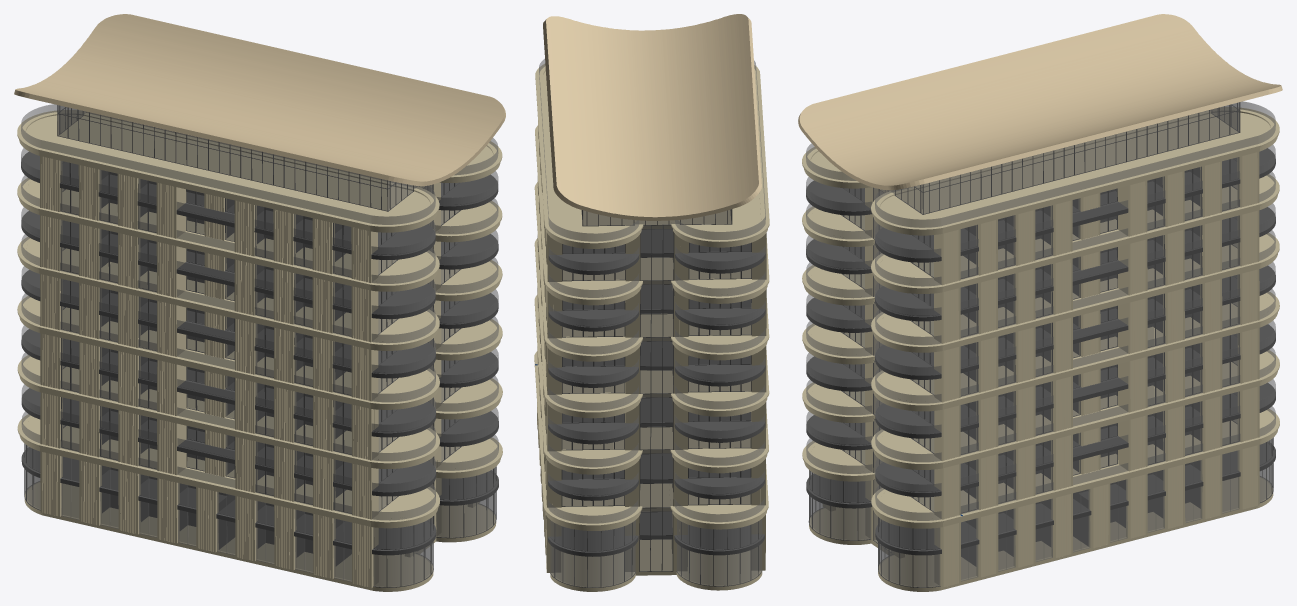
Rendered from Monaco_B1_Import3DFiles2.glb.
The picture shows the model from 3 angles, left to right: view 1: azimuth 30°, elevation 25°; view 2: azimuth 150°, elevation 25°; view 3: azimuth 270°, elevation 25°; orthographic projection. The views are drawn at different scales.
Parts seen in each view (by area): view 1: mesh_material_from_multipatch_1, mesh_material_from_multipatch_4, mesh_material_from_multipatch_5, mesh_material_from_multipatch_3, mesh_material_from_multipatch_6, mesh_material_from_multipatch_2; view 2: mesh_material_from_multipatch_1, mesh_material_from_multipatch_6, mesh_material_from_multipatch_4, mesh_material_from_multipatch_5, mesh_material_from_multipatch_2, mesh_material_from_multipatch_3; view 3: mesh_material_from_multipatch_1, mesh_material_from_multipatch_4, mesh_material_from_multipatch_5, mesh_material_from_multipatch_3, mesh_material_from_multipatch_6, mesh_material_from_multipatch_2.
Part boxes in pixels (x1=…): mesh_material_from_multipatch_1: x1=17, y1=110, x2=502, y2=591; mesh_material_from_multipatch_4: x1=21, y1=104, x2=498, y2=582; mesh_material_from_multipatch_5: x1=21, y1=105, x2=498, y2=587; mesh_material_from_multipatch_3: x1=41, y1=156, x2=432, y2=587; mesh_material_from_multipatch_6: x1=14, y1=14, x2=505, y2=186; mesh_material_from_multipatch_2: x1=24, y1=106, x2=496, y2=587; mesh_material_from_multipatch_1: x1=534, y1=64, x2=769, y2=591; mesh_material_from_multipatch_6: x1=543, y1=14, x2=761, y2=220; mesh_material_from_multipatch_4: x1=539, y1=59, x2=765, y2=571; mesh_material_from_multipatch_5: x1=548, y1=209, x2=765, y2=587; mesh_material_from_multipatch_2: x1=550, y1=209, x2=762, y2=587; mesh_material_from_multipatch_3: x1=537, y1=122, x2=766, y2=568; mesh_material_from_multipatch_1: x1=802, y1=107, x2=1279, y2=591; mesh_material_from_multipatch_4: x1=806, y1=101, x2=1275, y2=581; mesh_material_from_multipatch_5: x1=806, y1=102, x2=1275, y2=587; mesh_material_from_multipatch_3: x1=874, y1=152, x2=1257, y2=586; mesh_material_from_multipatch_6: x1=798, y1=14, x2=1282, y2=190; mesh_material_from_multipatch_2: x1=809, y1=103, x2=1272, y2=587.
Size of the model in its own units: 41.23 by 46.58 by 49.54.
